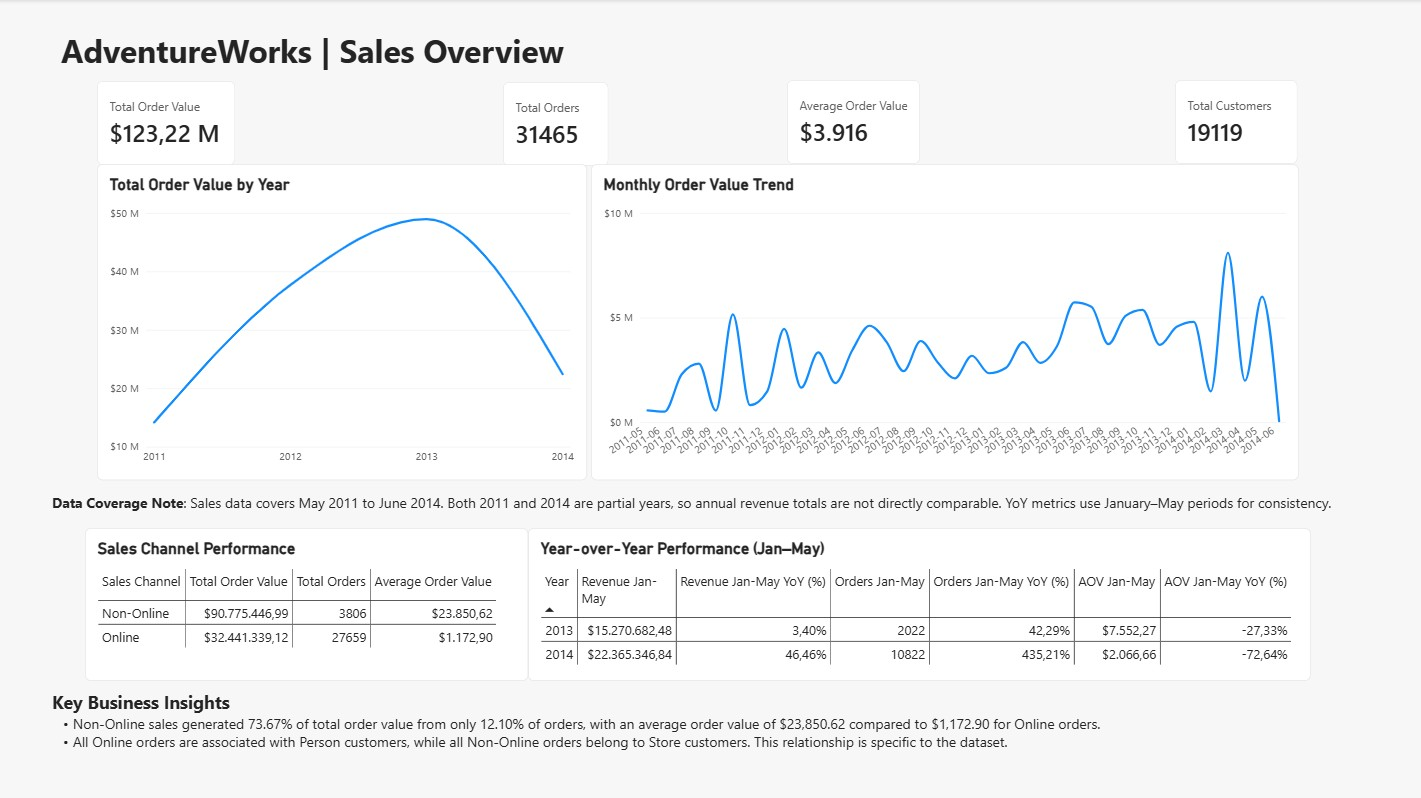

Layout of this report page (visuals, bound fields, positions):
{"tool":"powerbi","page":{"name":"Sales Overview","canvas":[1920,1080],"ordinal":0},"visuals":[{"type":"cardVisual","fields":{"Data":["FactSalesOrders.Total Revenue"]},"box":[131.4,110,186.7,113.8],"z":0},{"type":"cardVisual","fields":{"Data":["FactSalesOrders.Total Orders"]},"box":[678.6,111.4,142.7,113.8],"z":1000},{"type":"cardVisual","fields":{"Data":["FactSalesOrders.Average Order Value"]},"box":[1061,109.6,179.1,113.8],"z":2000},{"type":"cardVisual","fields":{"Data":["FactSalesOrders.Total Customers"]},"box":[1583.8,109.6,165.4,113.8],"z":3000},{"type":"lineChart","title":"Total Order Value by Year","fields":{"Category":["DimDate.Year"],"Y":["FactSalesOrders.Total Revenue"]},"box":[131.4,222.9,660,425.7],"z":4000},{"type":"lineChart","title":"Monthly Order Value Trend","fields":{"Category":["DimDate.YearMonth"],"Y":["FactSalesOrders.Total Revenue"]},"box":[797.1,222.9,952.9,425.7],"z":5000},{"type":"tableEx","title":"Year-over-Year Performance (Jan–May)","fields":{"Values":["DimDate.Year","FactSalesOrders.Revenue Jan-May","FactSalesOrders.Revenue Jan-May YoY (%)","FactSalesOrders.Orders Jan-May","FactSalesOrders.Orders Jan-May YoY (%)","FactSalesOrders.AOV Jan-May","FactSalesOrders.AOV Jan-May YoY (%)"]},"box":[712.9,712.9,1054.3,205.7],"z":6000},{"type":"textbox","box":[71.4,665.7,1732.9,47.1],"z":7000},{"type":"textbox","box":[83.3,40.1,714,109.5],"z":8000},{"type":"tableEx","title":"Sales Channel Performance","fields":{"Values":["FactSalesOrders.Sales Channel","FactSalesOrders.Total Revenue","FactSalesOrders.Total Orders","FactSalesOrders.Average Order Value"]},"box":[115.7,712.9,597.1,205.7],"z":8001},{"type":"textbox","box":[71.4,930,1732.9,150],"z":8003}]}

Visuals, with their boxes in screenshot pixels (x1, y1, x2, y2), scaled from the page's 1920x1080 canvas onto the 1421x798 screenshot:
cardVisual - FactSalesOrders.Total Revenue: (left=97, top=81, right=235, bottom=165)
cardVisual - FactSalesOrders.Total Orders: (left=502, top=82, right=608, bottom=166)
cardVisual - FactSalesOrders.Average Order Value: (left=785, top=81, right=918, bottom=165)
cardVisual - FactSalesOrders.Total Customers: (left=1172, top=81, right=1295, bottom=165)
"Total Order Value by Year" lineChart: (left=97, top=165, right=586, bottom=479)
"Monthly Order Value Trend" lineChart: (left=590, top=165, right=1295, bottom=479)
"Year-over-Year Performance (Jan–May)" tableEx: (left=528, top=527, right=1308, bottom=679)
textbox: (left=53, top=492, right=1335, bottom=527)
textbox: (left=62, top=30, right=590, bottom=111)
"Sales Channel Performance" tableEx: (left=86, top=527, right=528, bottom=679)
textbox: (left=53, top=687, right=1335, bottom=797)
